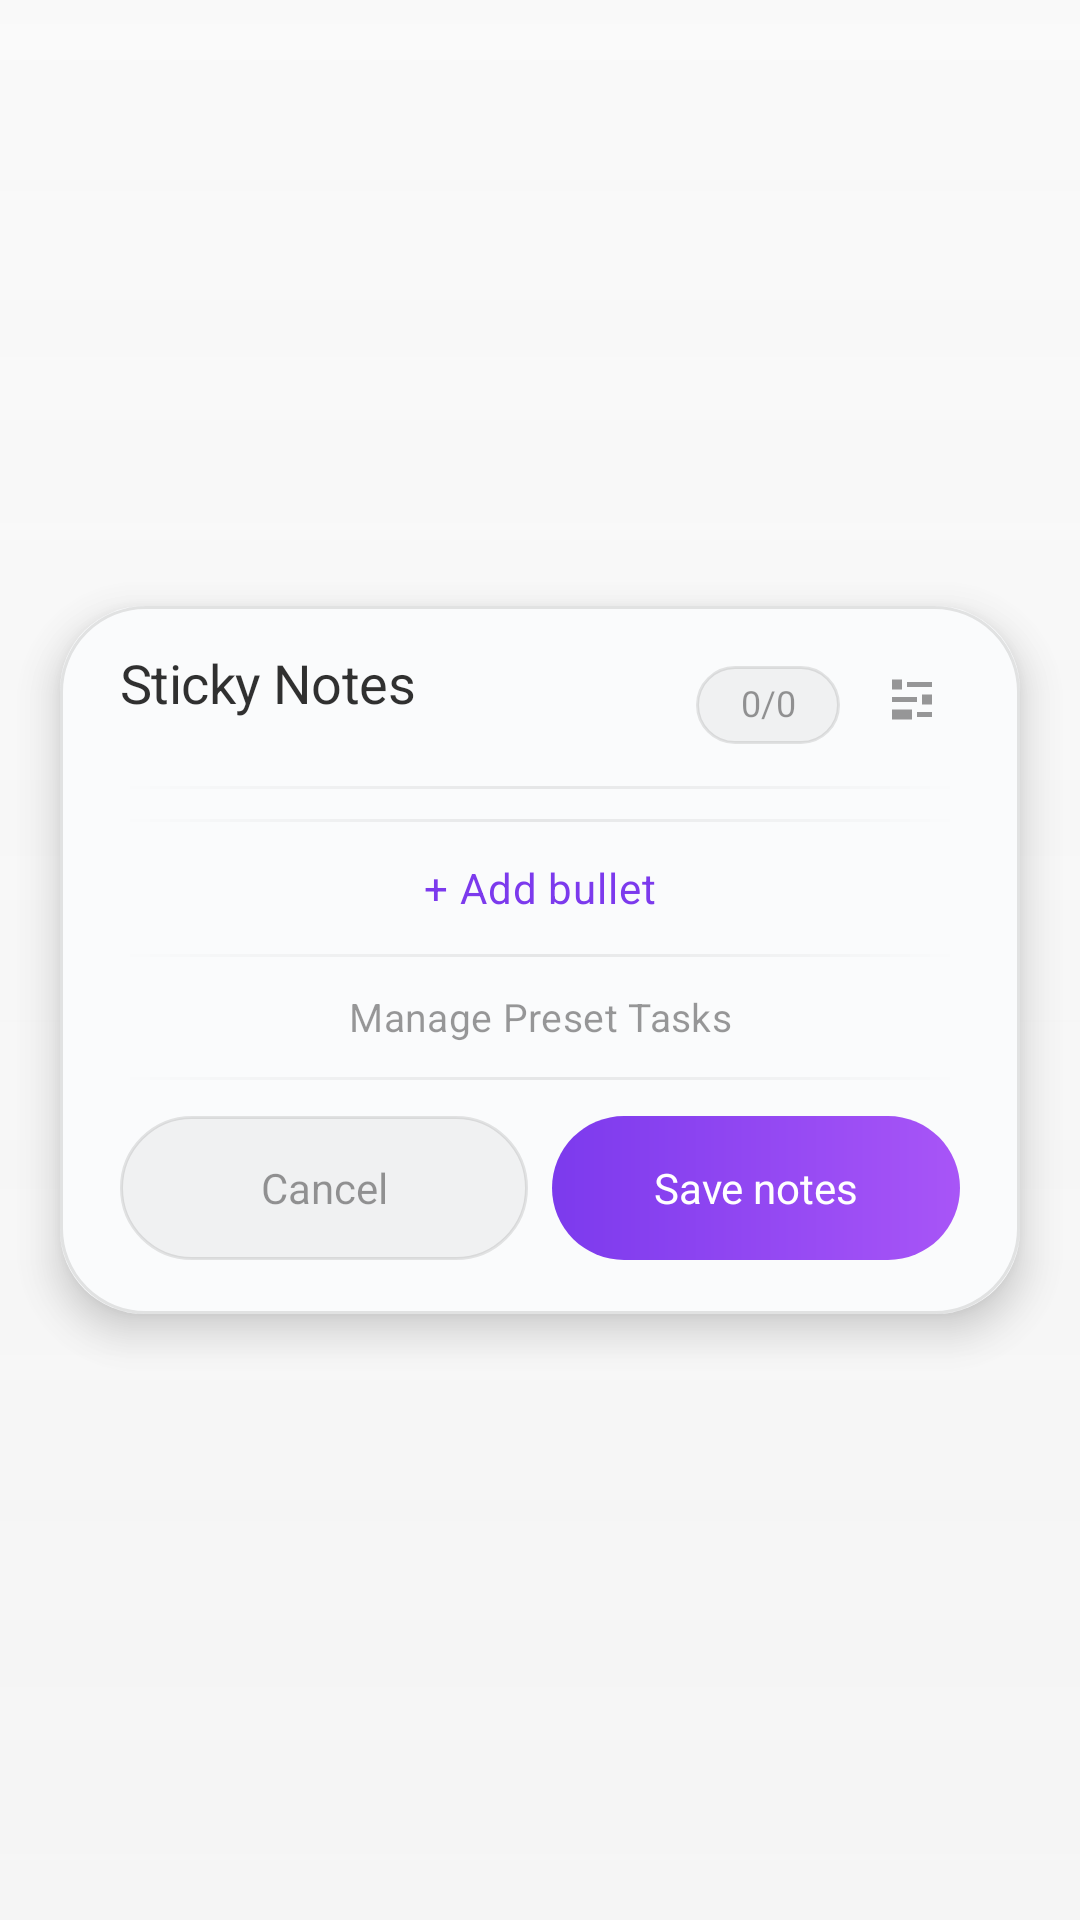

Named icons in this screenshot (1080*1920) and their centers, point (x, y):
Editor settings: point (912, 699)
